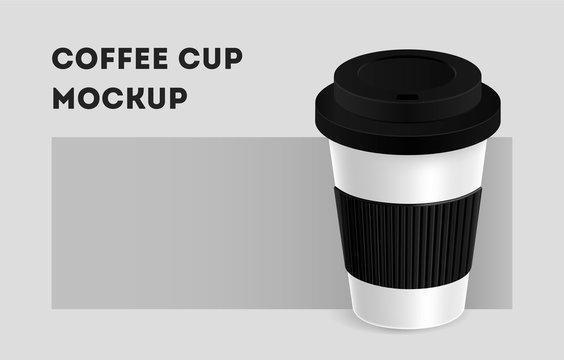cup-disposable: (313, 44, 503, 333)
